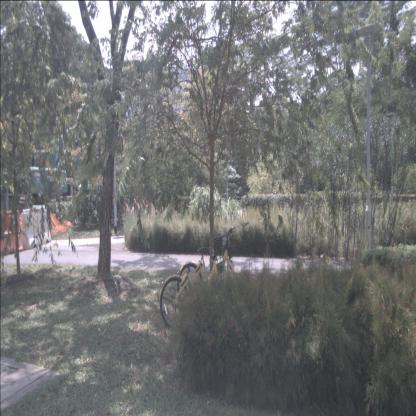barrier: (18, 204, 52, 250), (0, 209, 24, 255)
